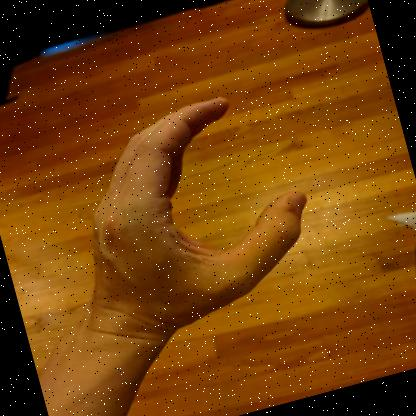C: (89, 96, 306, 353)
